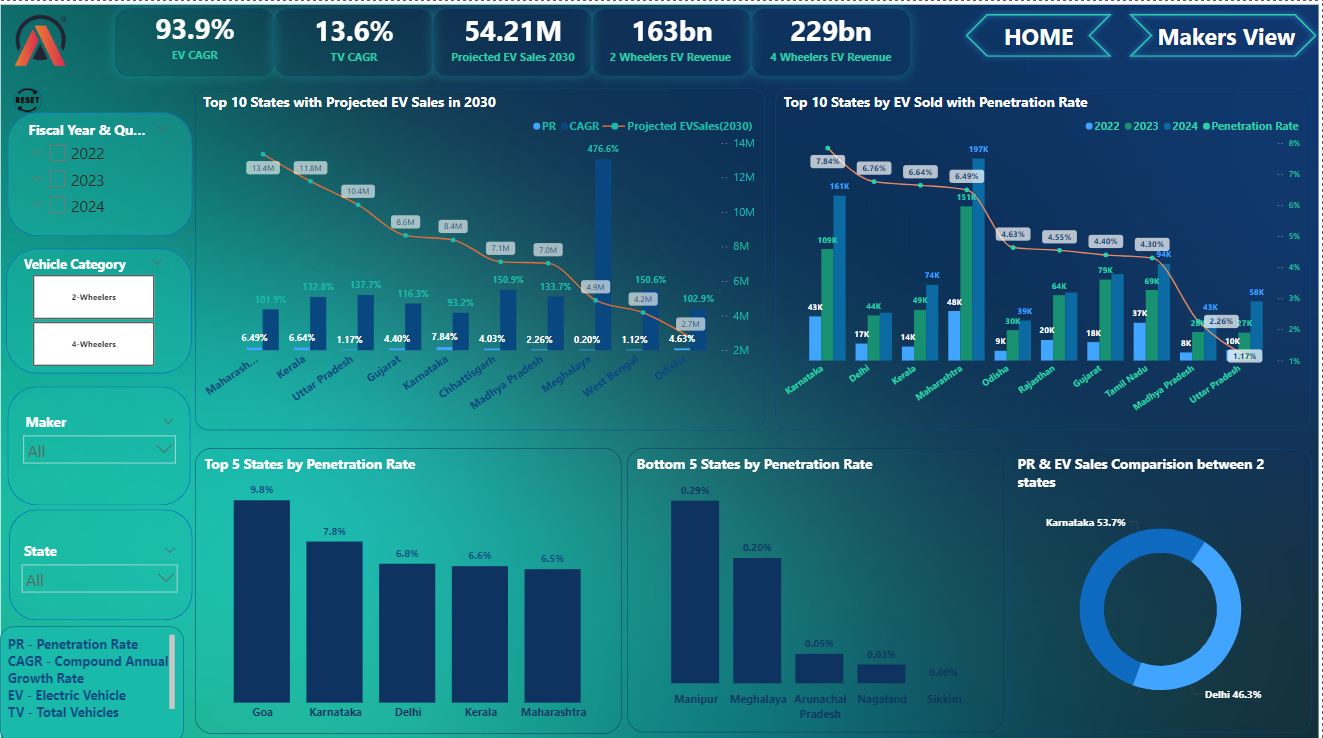

What the dashboard file says about the page in this screenshot:
{"tool":"powerbi","page":{"name":"States View","canvas":[1920,1080],"ordinal":1},"visuals":[{"type":"image","title":"Background Image","box":[0,0,1920,1080],"z":0},{"type":"shape","box":[1601.6,4.7,90,90],"z":0,"group":"g5"},{"type":"shape","box":[1709.4,6.2,90,90],"z":0,"group":"g6"},{"type":"shape","box":[1395.7,6.8,90,90],"z":0,"group":"g3"},{"type":"shape","box":[1498.2,6.8,90,90],"z":0,"group":"g4"},{"type":"image","title":"GreenCar","box":[62.5,10,125,110],"z":0,"group":"g7"},{"type":"lineClusteredColumnComboChart","title":"Top 10 States with Projected EV Sales in 2030","fields":{"Category":["dim_states.state"],"Y":["Key_Measures.Penetration_rate","Key_Measures.CAGR_for_ElectricVehicles"],"Y2":["Key_Measures.Projected_EVSales_2030"]},"box":[20,142.5,948.3,496],"z":0,"group":"g1"},{"type":"clusteredColumnChart","title":"Top 5 States by Penetration Rate","fields":{"Category":["dim_states.state"],"Y":["Key_Measures.Penetration_rate"]},"box":[20,647.5,637.5,415],"z":0,"group":"g2"},{"type":"image","title":"AtliqLogo","box":[12.5,0,95,87.5],"z":1000,"group":"g7"},{"type":"image","title":"Makers","box":[1611.6,9.7,72.5,75],"z":1000,"group":"g5"},{"type":"image","title":"StatesComp","box":[1719.4,11.2,72.5,75],"z":1000,"group":"g6"},{"type":"image","title":"Home","box":[1403.2,11.8,72.5,75],"z":1000,"group":"g3"},{"type":"image","title":"States","box":[1508.2,14.3,72.5,75],"z":1000,"group":"g4"},{"type":"donutChart","title":"PR & EV Sales Comparision between 2 states","fields":{"Category":["dim_states.state"],"Y":["Key_Measures.Penetration_rate"]},"box":[1350,642.5,570,415],"z":1000},{"type":"actionButton","title":"Bottom 5","box":[520.3,660,137.2,47.5],"z":1000,"group":"g2"},{"type":"pieChart","title":"EV Sales by Vehicle Category","fields":{"Category":["dim_category.vehicle_category"],"Y":["Key_Measures.Electric_Vehicles_Sold"]},"box":[675,647.5,650,415],"z":3000},{"type":"group","id":"g1","title":"Top10StatesHighestEVSold","box":[20,142.5,947.5,497.5],"z":4000},{"type":"lineClusteredColumnComboChart","title":"Top 10 States by EV Sold with Penetration Rate","fields":{"Category":["dim_states.state","dim_date.fiscal_year"],"Y":["Key_Measures.EV_Sold_2022","Key_Measures.EV_Sold_2023","Key_Measures.EV_Sold_2024"],"Y2":["Key_Measures.Penetration_rate"]},"box":[980,142.5,940,496],"z":5000},{"type":"card","title":"4W EV Revenue","fields":{"Values":["Key_Measures.4_Wheelers_EV_Revenue"]},"box":[1094,10,230,98],"z":6000},{"type":"card","title":"2W EV Revenue","fields":{"Values":["Key_Measures.2_Wheelers_EV_Revenue"]},"box":[864,10,230,98],"z":7000},{"type":"card","title":"Projected EV Sales 2030","fields":{"Values":["Key_Measures.Projected_EVSales_2030"]},"box":[632,10,230,98],"z":8000},{"type":"card","title":"CAGR for Total Vehicles","fields":{"Values":["Key_Measures.CAGR_for_TotalVehicles"]},"box":[402,10,230,98],"z":9000},{"type":"card","title":"CAGR for Electric Vehicles","fields":{"Values":["Key_Measures.CAGR_for_ElectricVehicles"]},"box":[172,10,230,98],"z":10000},{"type":"group","id":"g2","title":"Top 5 States by PR","box":[20,647.5,637.5,415],"z":14000},{"type":"group","id":"g3","title":"HomePageBtn","box":[1395.7,6.8,90,90],"z":16000},{"type":"group","id":"g4","title":"StatesViewBtn","box":[1498.2,6.8,90,90],"z":17000},{"type":"group","id":"g5","title":"MakersViewBtn","box":[1601.6,4.7,90,90],"z":18000},{"type":"group","id":"g6","title":"StatesComparisionBtn","box":[1709.4,6.2,90,90],"z":19000},{"type":"image","title":"FiltersButton","box":[1827.5,10,90,90],"z":20000},{"type":"group","id":"g7","title":"AtliqLogo","box":[12.5,0,175,120],"z":21000}]}

Visuals, with their boxes in screenshot pixels (x1, y1, x2, y2), scaled from the page's 1920x1080 canvas onto the 1323x738 screenshot:
"Background Image" image: x1=0 y1=0 x2=1322 y2=737
shape: x1=1104 y1=3 x2=1166 y2=65
shape: x1=1178 y1=4 x2=1240 y2=66
shape: x1=962 y1=5 x2=1024 y2=66
shape: x1=1032 y1=5 x2=1094 y2=66
"GreenCar" image: x1=43 y1=7 x2=129 y2=82
"Top 10 States with Projected EV Sales in 2030" lineClusteredColumnComboChart: x1=14 y1=97 x2=667 y2=436
"Top 5 States by Penetration Rate" clusteredColumnChart: x1=14 y1=442 x2=453 y2=726
"AtliqLogo" image: x1=9 y1=0 x2=74 y2=60
"Makers" image: x1=1110 y1=7 x2=1160 y2=58
"StatesComp" image: x1=1185 y1=8 x2=1235 y2=59
"Home" image: x1=967 y1=8 x2=1017 y2=59
"States" image: x1=1039 y1=10 x2=1089 y2=61
"PR & EV Sales Comparision between 2 states" donutChart: x1=930 y1=439 x2=1322 y2=723
"Bottom 5" actionButton: x1=359 y1=451 x2=453 y2=483
"EV Sales by Vehicle Category" pieChart: x1=465 y1=442 x2=913 y2=726
"Top10StatesHighestEVSold" group: x1=14 y1=97 x2=667 y2=437
"Top 10 States by EV Sold with Penetration Rate" lineClusteredColumnComboChart: x1=675 y1=97 x2=1322 y2=436
"4W EV Revenue" card: x1=754 y1=7 x2=912 y2=74
"2W EV Revenue" card: x1=595 y1=7 x2=754 y2=74
"Projected EV Sales 2030" card: x1=435 y1=7 x2=594 y2=74
"CAGR for Total Vehicles" card: x1=277 y1=7 x2=435 y2=74
"CAGR for Electric Vehicles" card: x1=119 y1=7 x2=277 y2=74
"Top 5 States by PR" group: x1=14 y1=442 x2=453 y2=726
"HomePageBtn" group: x1=962 y1=5 x2=1024 y2=66
"StatesViewBtn" group: x1=1032 y1=5 x2=1094 y2=66
"MakersViewBtn" group: x1=1104 y1=3 x2=1166 y2=65
"StatesComparisionBtn" group: x1=1178 y1=4 x2=1240 y2=66
"FiltersButton" image: x1=1259 y1=7 x2=1321 y2=68
"AtliqLogo" group: x1=9 y1=0 x2=129 y2=82
